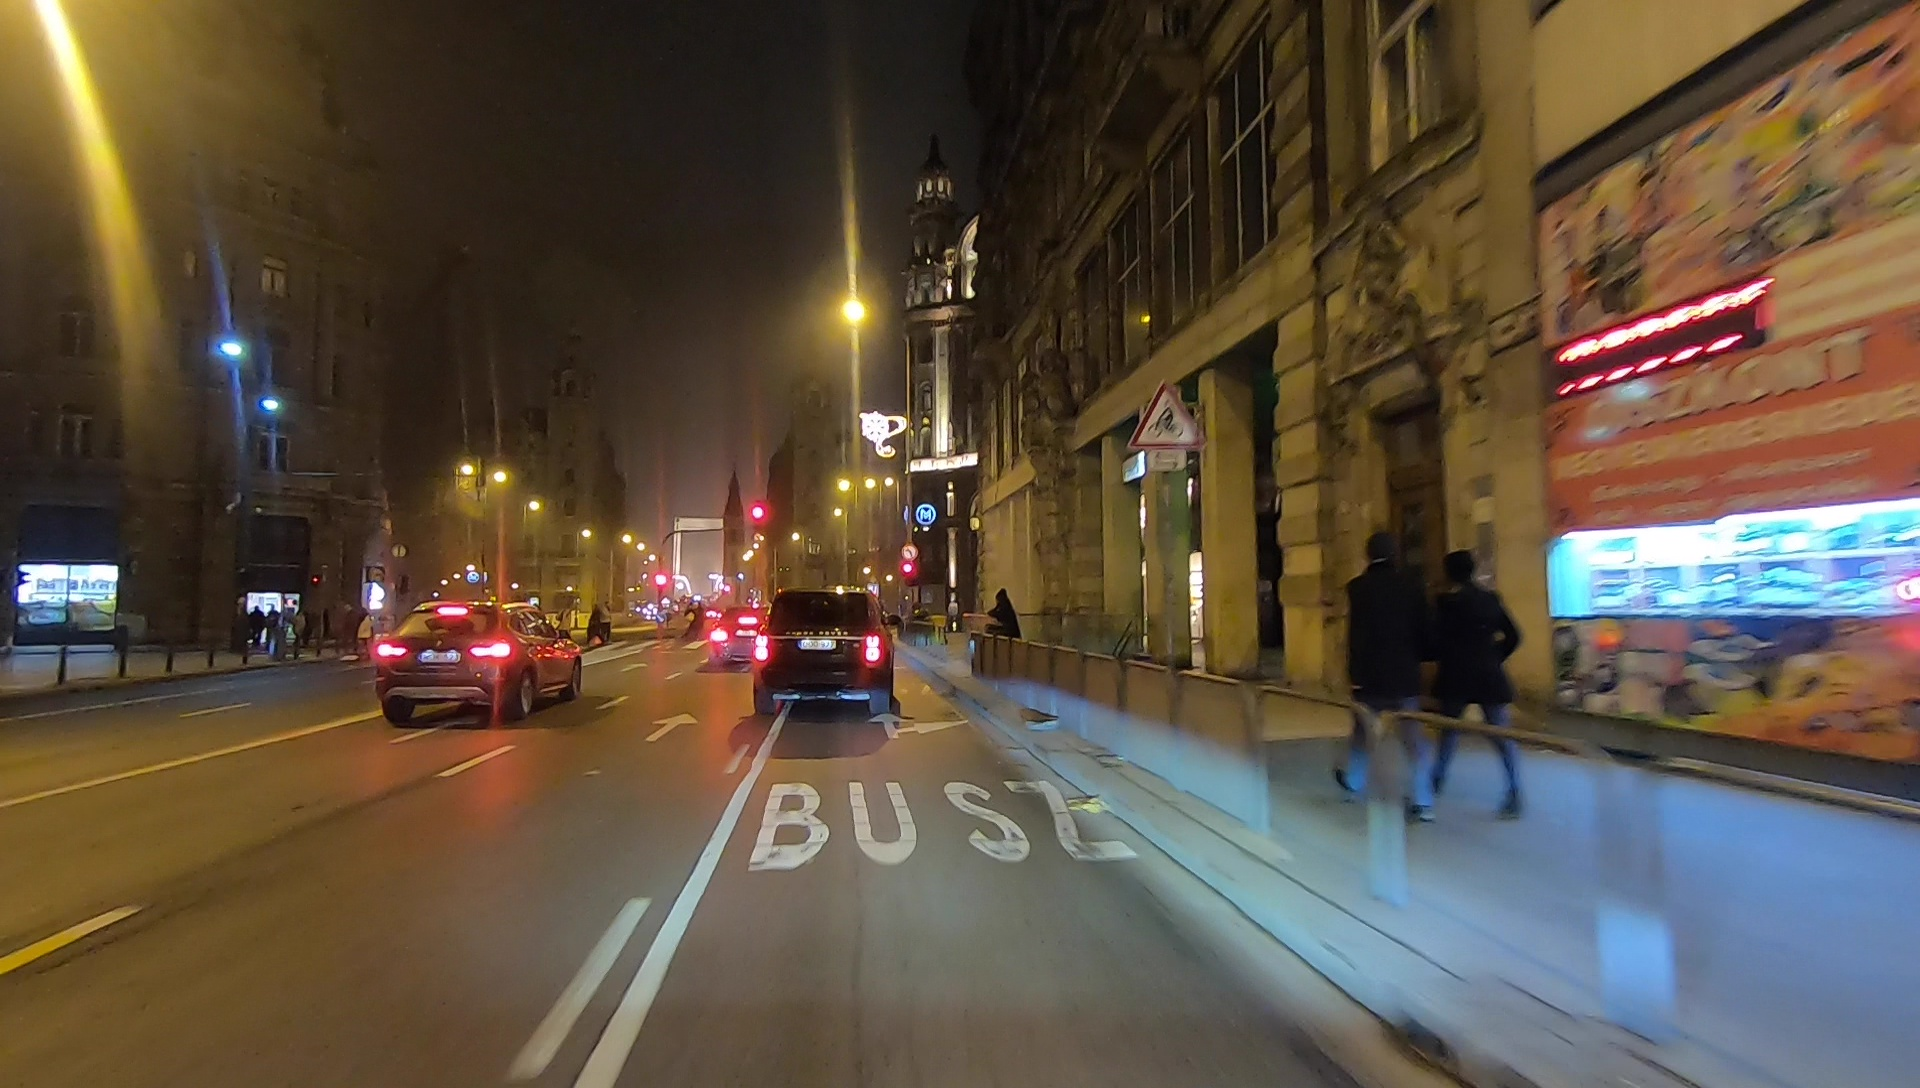person: (1330, 536, 1434, 806), (1425, 547, 1525, 817), (351, 611, 373, 662), (585, 599, 600, 651), (556, 600, 572, 645), (684, 598, 699, 645), (266, 601, 279, 650), (599, 599, 612, 641), (250, 605, 263, 652)
